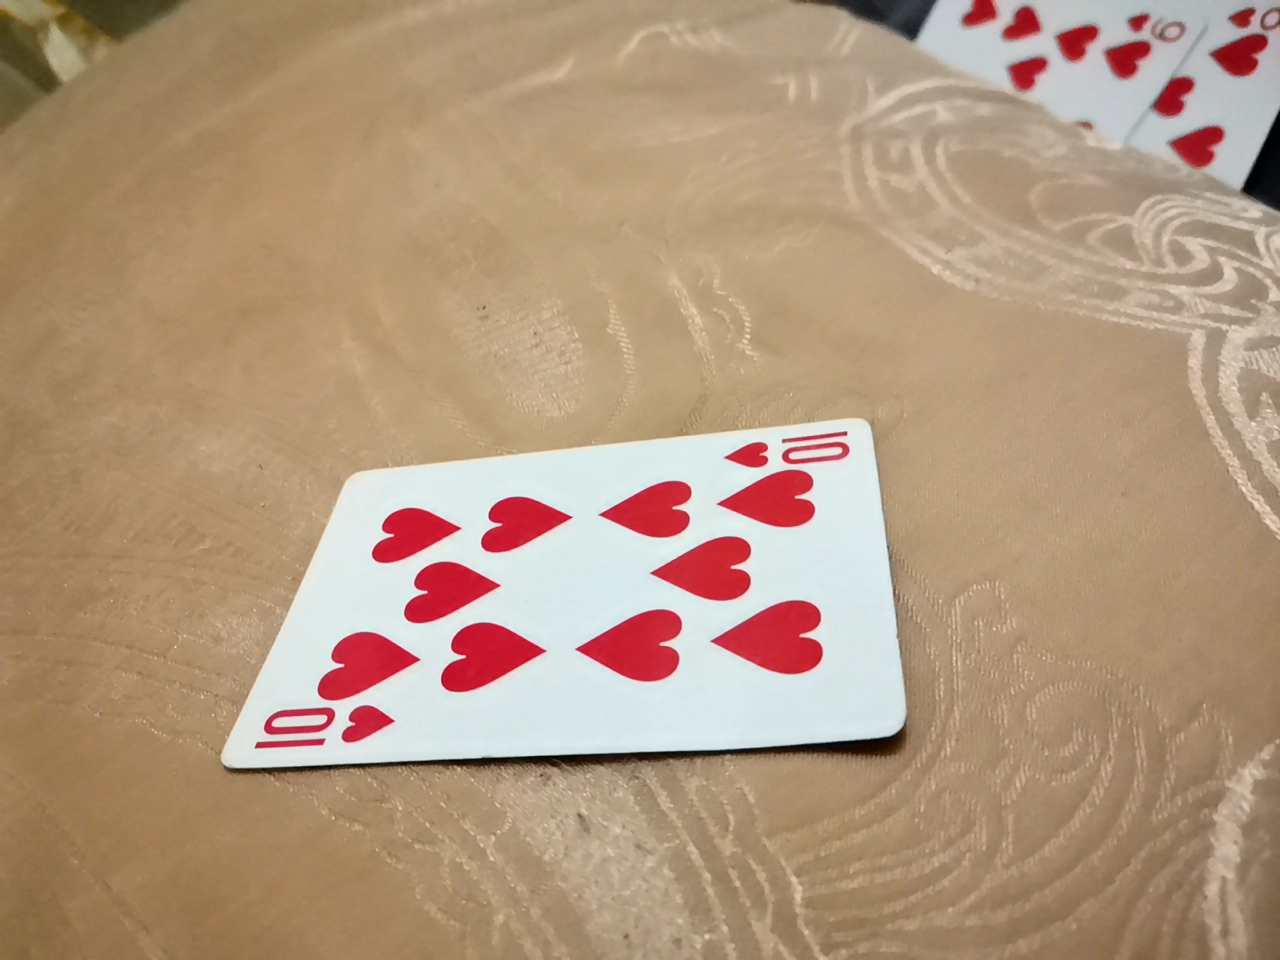hx 10: (241, 365, 909, 734)
